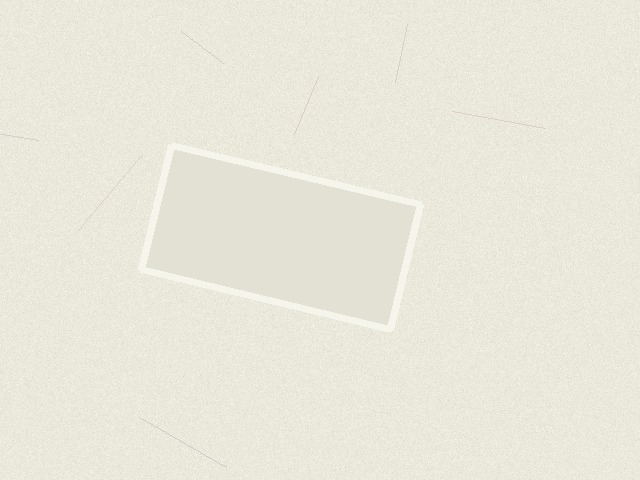parking_area: (141, 145, 420, 329)
